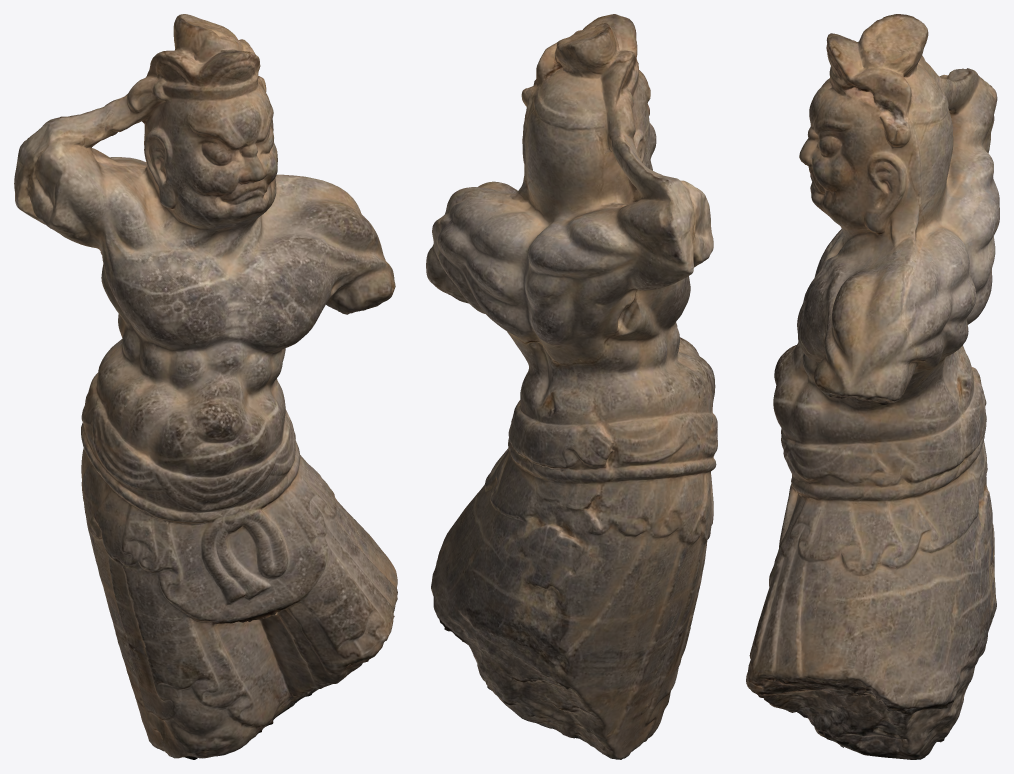
3 renders of one model, left to right at view 1: azimuth 30°, elevation 25°; view 2: azimuth 150°, elevation 25°; view 3: azimuth 270°, elevation 25°, orthographic.
Visible parts, largest first — view 1: Object_2; view 2: Object_2; view 3: Object_2.
Boxes of the visible parts, left/top/right/bottom form: Object_2: left=14, top=14, right=397, bottom=759; Object_2: left=426, top=14, right=717, bottom=759; Object_2: left=746, top=14, right=999, bottom=759.
Bounding box in the file's own units: 0.3191 × 0.6937 × 0.2184.
1 material, 1 textured.
